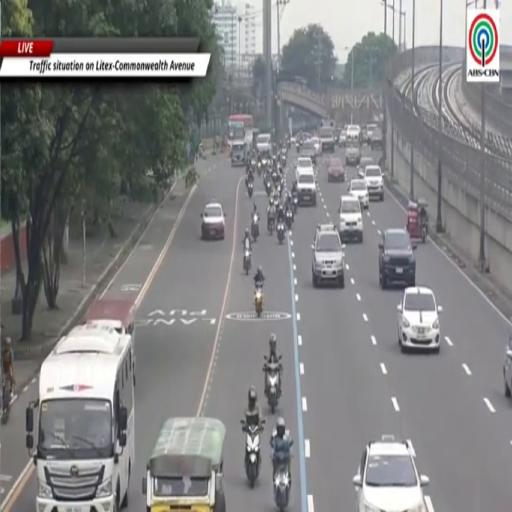bus: (26, 324, 134, 511), (228, 115, 253, 150)
car: (353, 436, 429, 511), (397, 286, 442, 351), (379, 229, 416, 289), (312, 223, 344, 287), (338, 196, 363, 243), (201, 201, 225, 239), (296, 168, 316, 205), (364, 165, 384, 201), (348, 179, 370, 209), (345, 132, 360, 166), (327, 157, 345, 182), (504, 334, 511, 397), (319, 126, 335, 153), (296, 157, 314, 179), (300, 140, 317, 163), (358, 157, 374, 178), (256, 133, 272, 154), (370, 127, 383, 150), (366, 124, 378, 145), (338, 125, 347, 147), (310, 137, 321, 155)
jeepney: (143, 418, 226, 511)
motorcycle: (241, 420, 264, 487), (264, 356, 281, 413), (273, 459, 291, 511), (2, 375, 10, 424), (255, 283, 263, 317), (251, 213, 260, 242), (243, 249, 251, 275), (277, 222, 285, 244), (420, 222, 428, 243), (285, 210, 293, 230), (268, 216, 275, 235), (265, 180, 272, 198), (256, 162, 262, 177), (248, 182, 253, 198), (293, 196, 297, 214), (277, 183, 282, 197), (262, 158, 268, 168)
tricycle: (406, 199, 428, 243)
truck: (319, 120, 335, 153)
